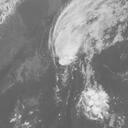cyclone: (77, 86, 109, 121), (47, 38, 83, 66)
